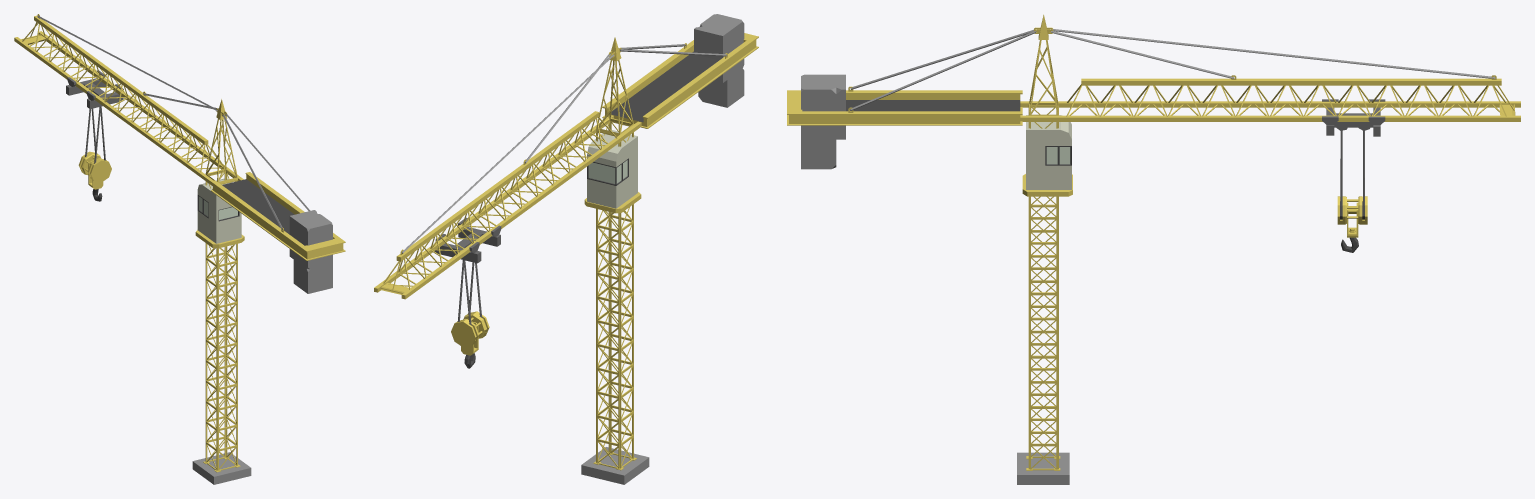
File: crane.glb
3 views of the same model, side by side, from view 1: azimuth 30°, elevation 25°; view 2: azimuth 150°, elevation 25°; view 3: azimuth 270°, elevation 25° (orthographic). The views are drawn at different scales.
Parts seen in each view (by area): view 1: Crane_Cylinder_4256f8, Crane_Cylinder_b8e2c2, Crane_Cylinder_3bb3f9, Crane_Cylinder_f9b10d, Crane_Cylinder_b4c571, Concrete_Cube.007; view 2: Crane_Cylinder_4256f8, Crane_Cylinder_b8e2c2, Crane_Cylinder_3bb3f9, Crane_Cylinder_f9b10d, Crane_Cylinder_b4c571, Concrete_Cube.007, Crane_Cylinder_2f49ff; view 3: Crane_Cylinder_4256f8, Crane_Cylinder_b8e2c2, Crane_Cylinder_f9b10d, Crane_Cylinder_3bb3f9, Concrete_Cube.007, Crane_Cylinder_b4c571.
Part boxes in pixels (<box>): Crane_Cylinder_4256f8: <box>14,14,345,472</box>; Crane_Cylinder_b8e2c2: <box>37,15,332,293</box>; Crane_Cylinder_3bb3f9: <box>92,179,294,234</box>; Crane_Cylinder_f9b10d: <box>197,178,241,243</box>; Crane_Cylinder_b4c571: <box>66,70,123,163</box>; Concrete_Cube.007: <box>192,452,251,484</box>; Crane_Cylinder_4256f8: <box>374,33,758,470</box>; Crane_Cylinder_b8e2c2: <box>402,14,744,253</box>; Crane_Cylinder_3bb3f9: <box>464,51,718,368</box>; Crane_Cylinder_f9b10d: <box>587,129,637,208</box>; Crane_Cylinder_b4c571: <box>434,217,501,325</box>; Concrete_Cube.007: <box>581,447,649,484</box>; Crane_Cylinder_2f49ff: <box>588,160,627,183</box>; Crane_Cylinder_4256f8: <box>787,14,1520,470</box>; Crane_Cylinder_b8e2c2: <box>801,29,1495,169</box>; Crane_Cylinder_f9b10d: <box>1026,115,1071,189</box>; Crane_Cylinder_3bb3f9: <box>846,100,1364,252</box>; Concrete_Cube.007: <box>1017,452,1069,484</box>; Crane_Cylinder_b4c571: <box>1322,99,1385,206</box>.
Bounding box in the file's own units: 1.6 × 14.61 × 21.13.
